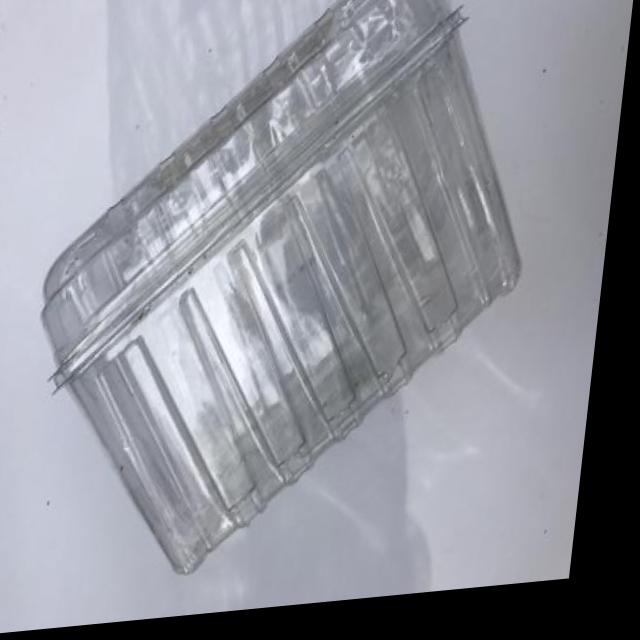plastic: (0, 0, 581, 623)
